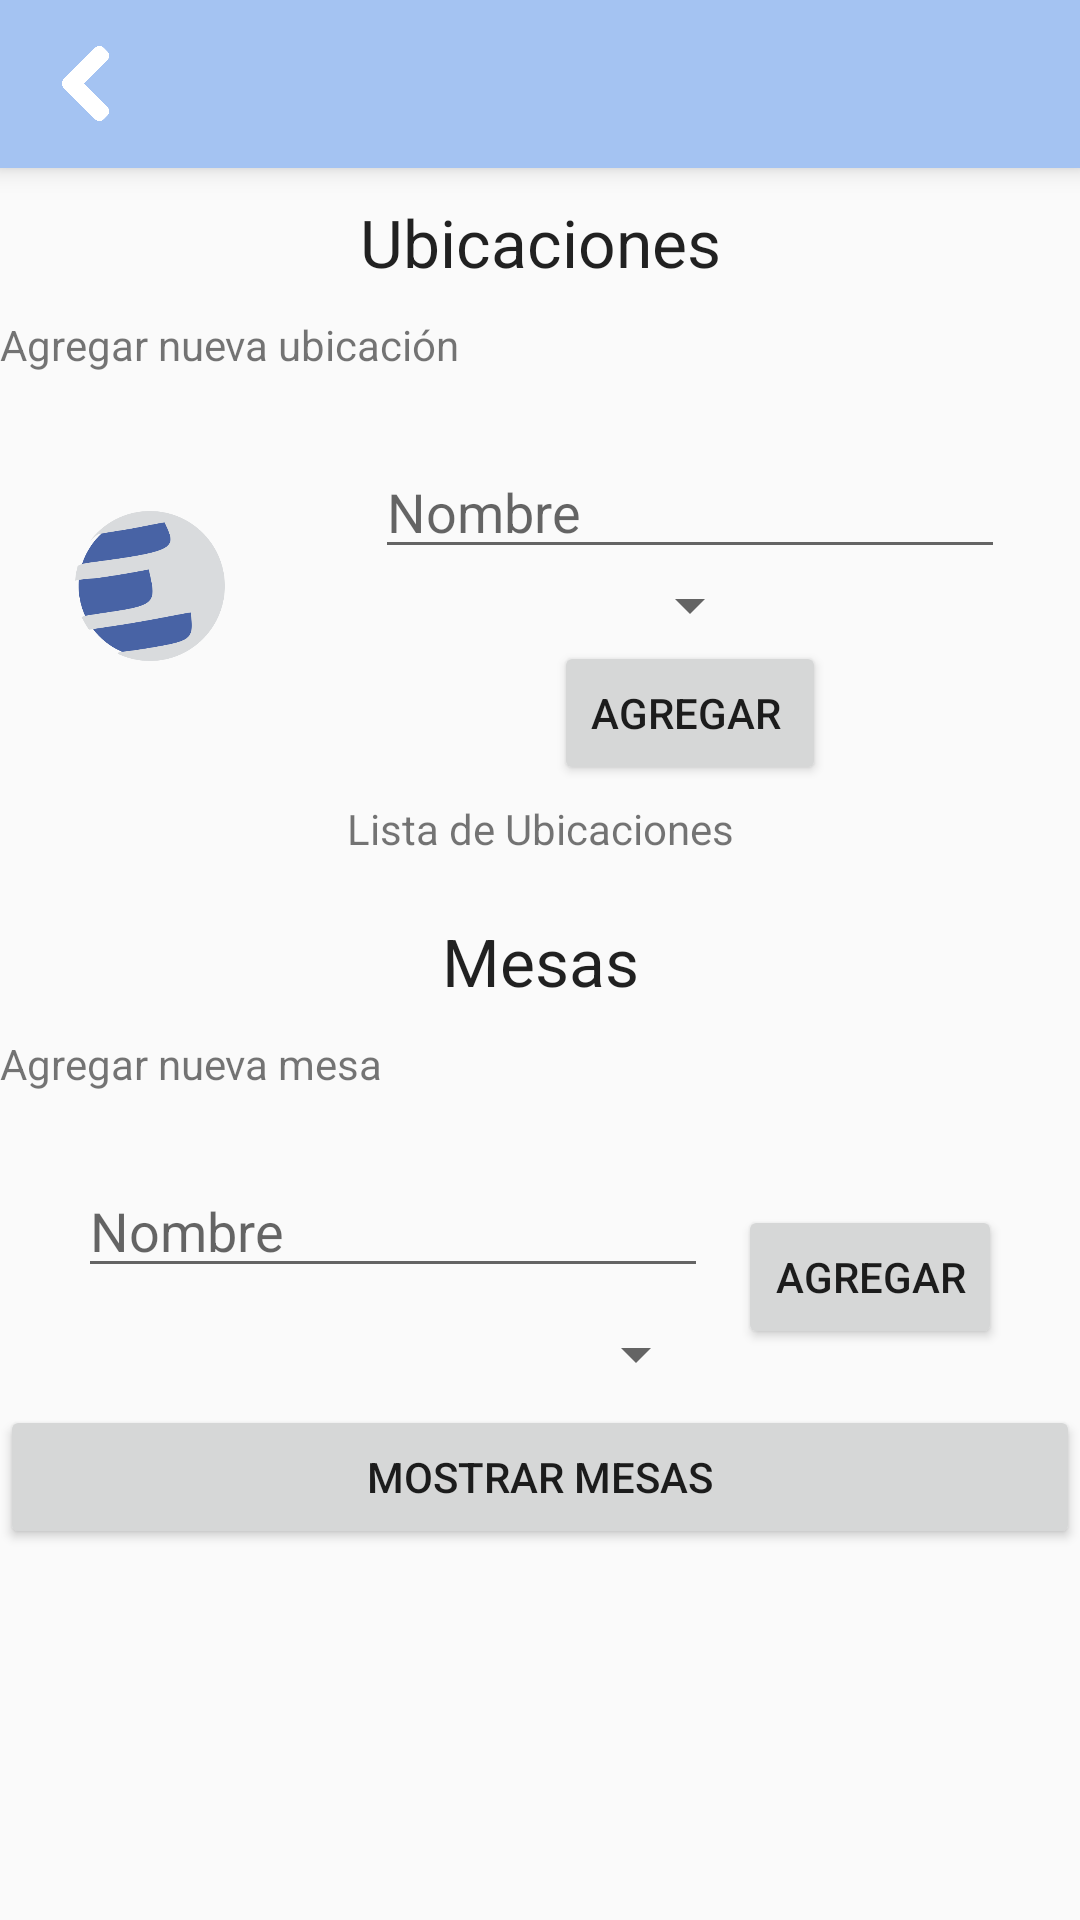

Icon click points for this 1080 x 1920 phone screenshot, format (x=x, y=y):
back: (x=85, y=83)
